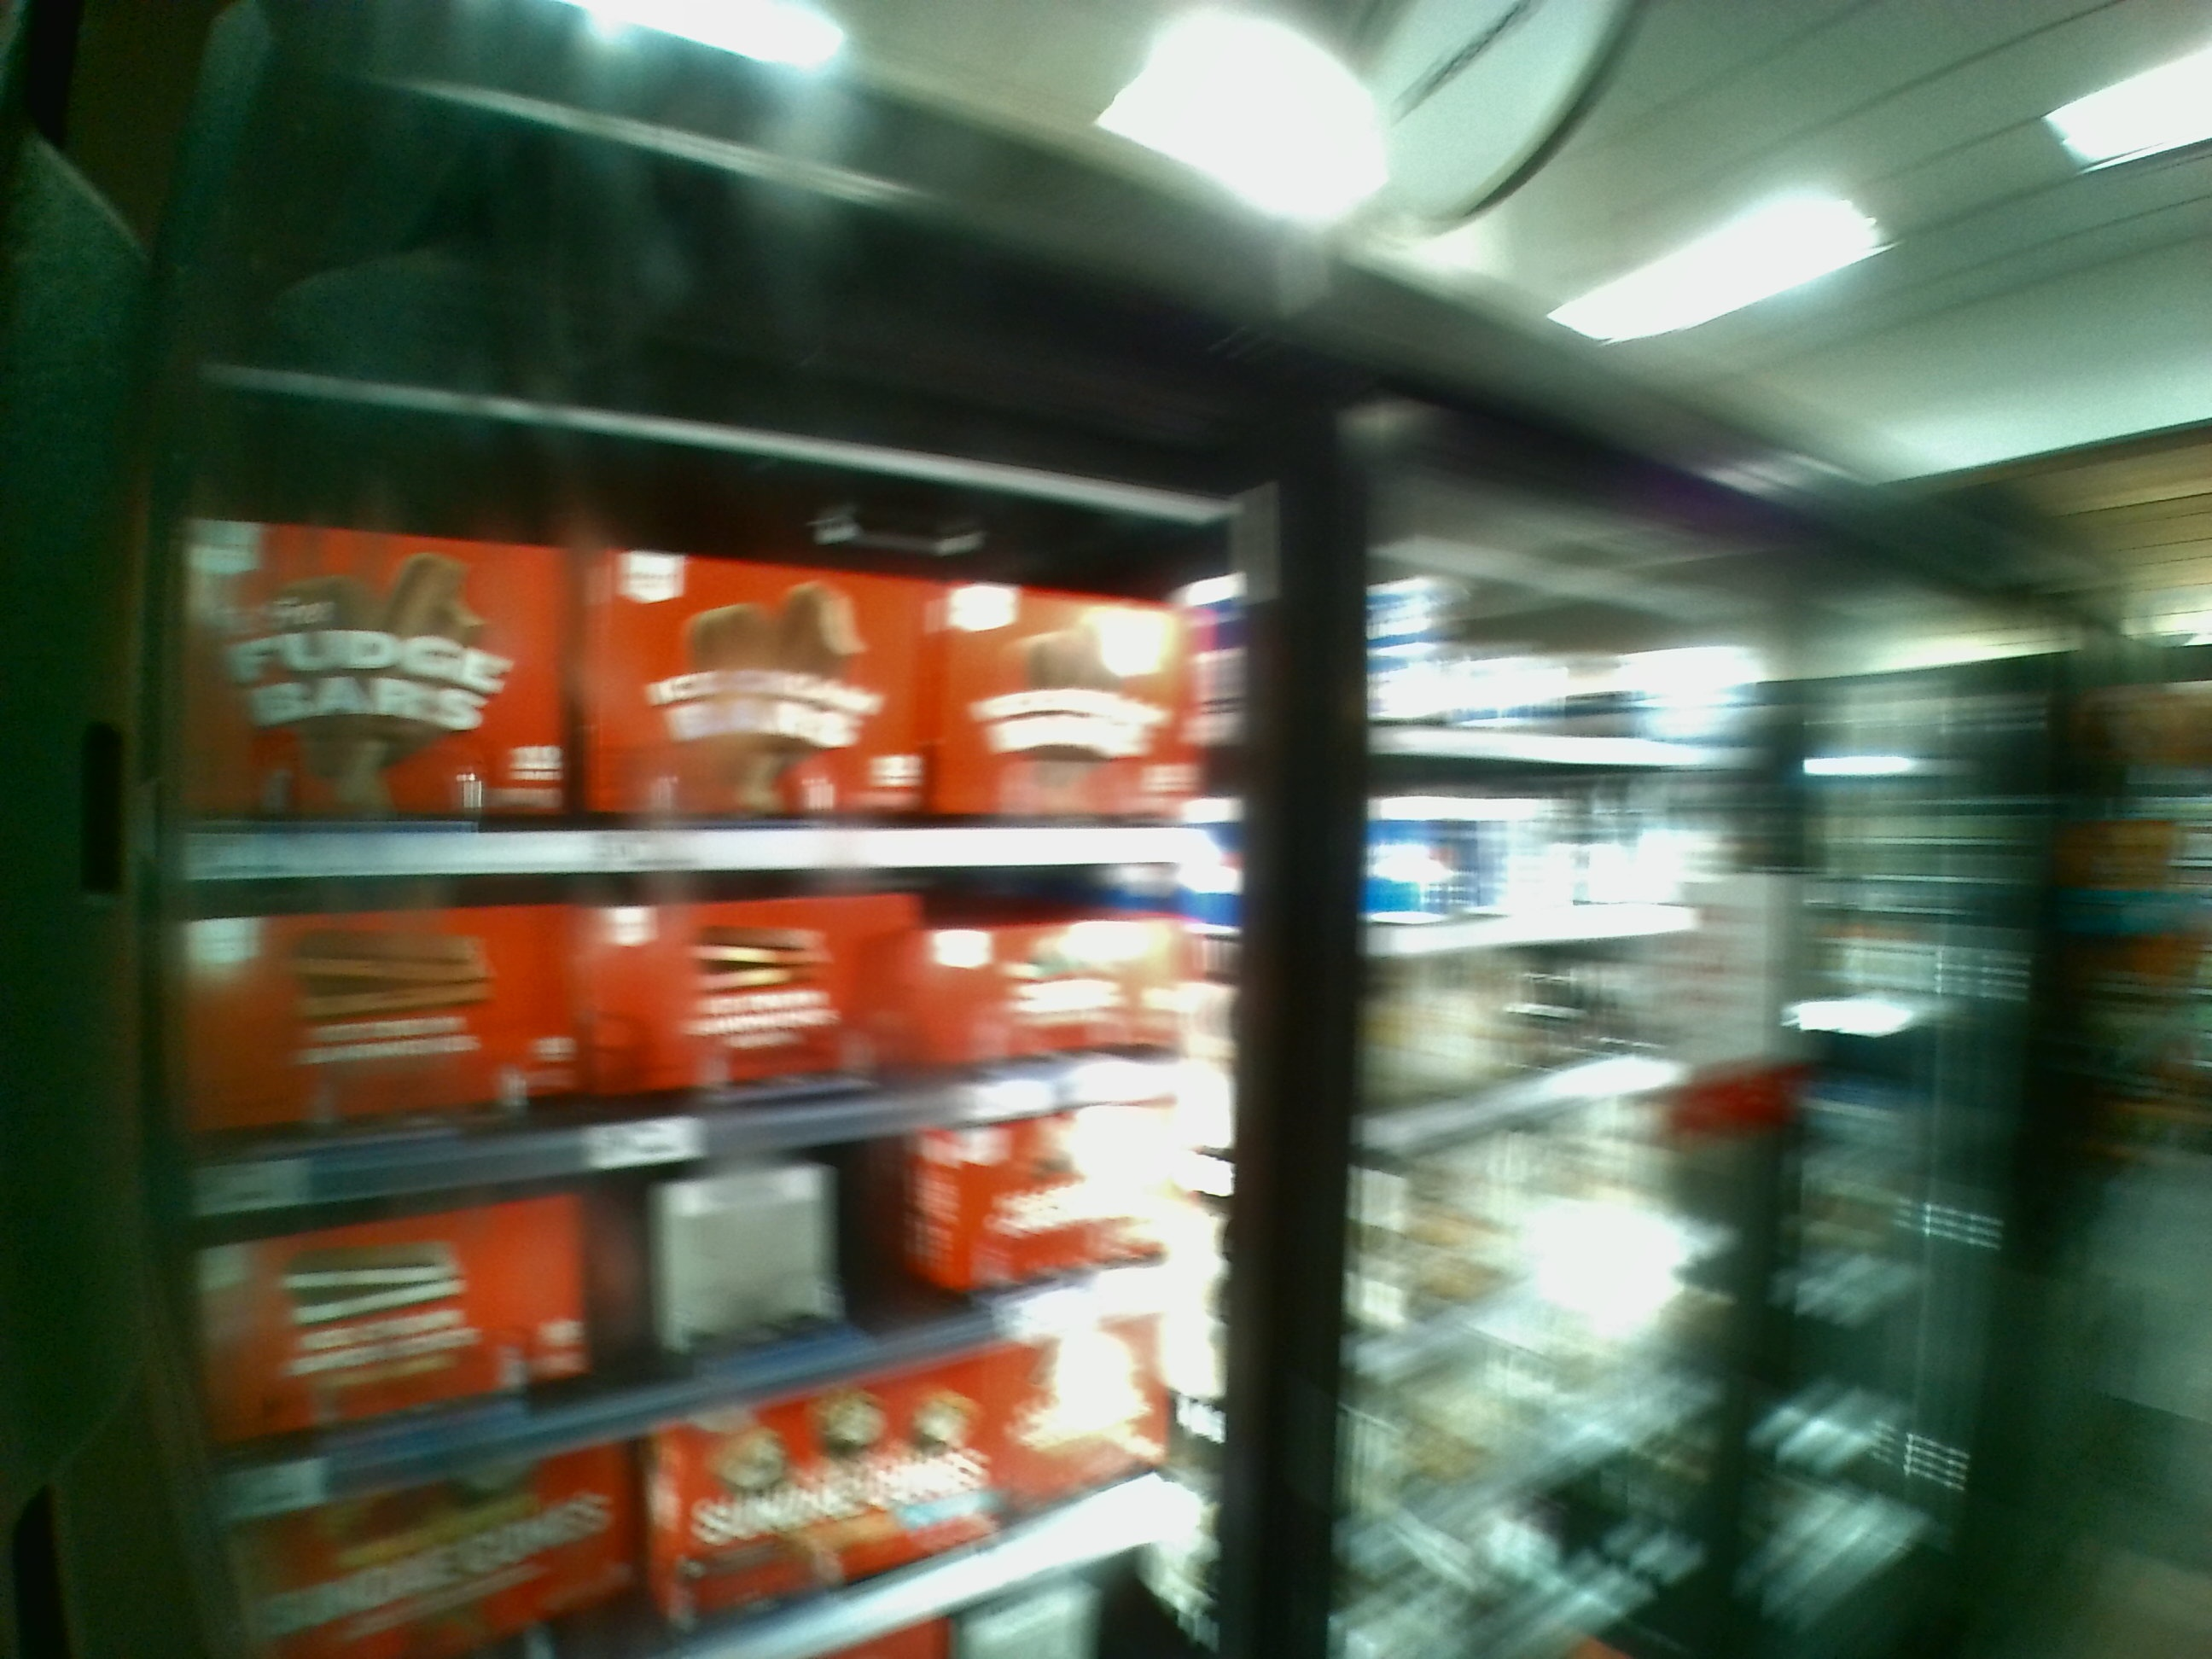shelf: (169, 413, 1231, 863), (212, 1134, 1224, 1417), (169, 885, 1207, 1159)
